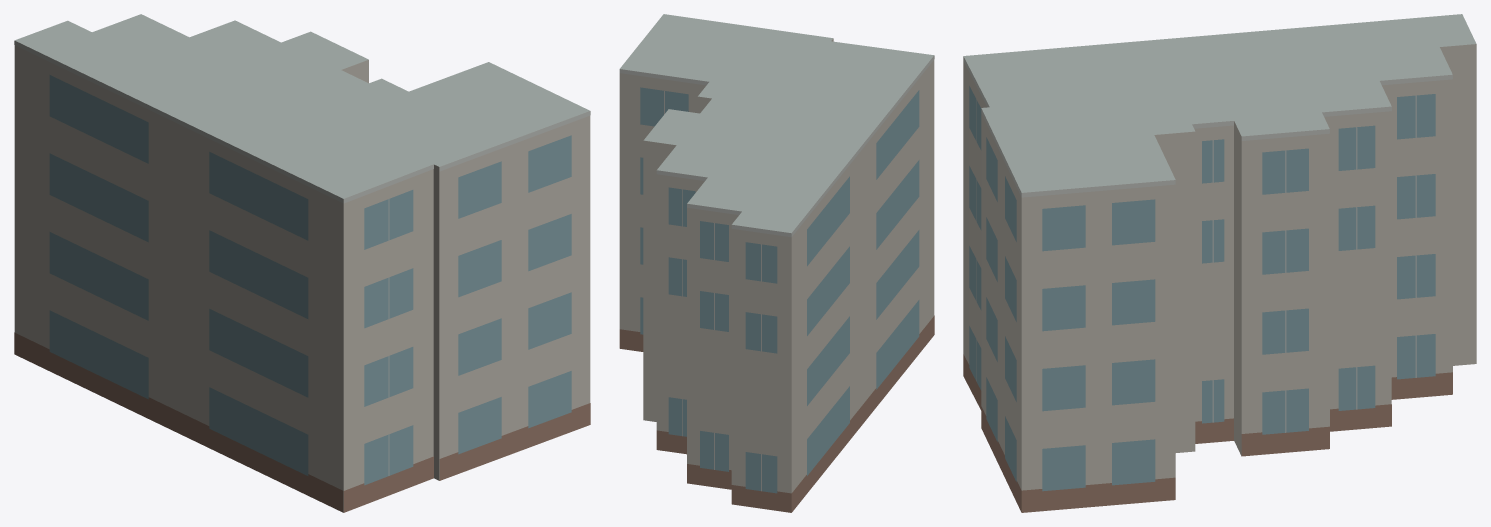
File: survey-upis-32641934.glb
The picture shows the model from 3 angles, left to right: view 1: azimuth 30°, elevation 25°; view 2: azimuth 150°, elevation 25°; view 3: azimuth 270°, elevation 25°; orthographic projection. The views are drawn at different scales.
Visible parts, largest first — view 1: survey-upis-32641934.tmp; view 2: survey-upis-32641934.tmp; view 3: survey-upis-32641934.tmp.
Boxes of the visible parts, x1,y1,x2,y2 form: survey-upis-32641934.tmp: (14, 14, 590, 512); survey-upis-32641934.tmp: (619, 14, 934, 512); survey-upis-32641934.tmp: (963, 14, 1476, 512).
Bounding box in the file's own units: 19.92 × 16.6 × 24.14.
